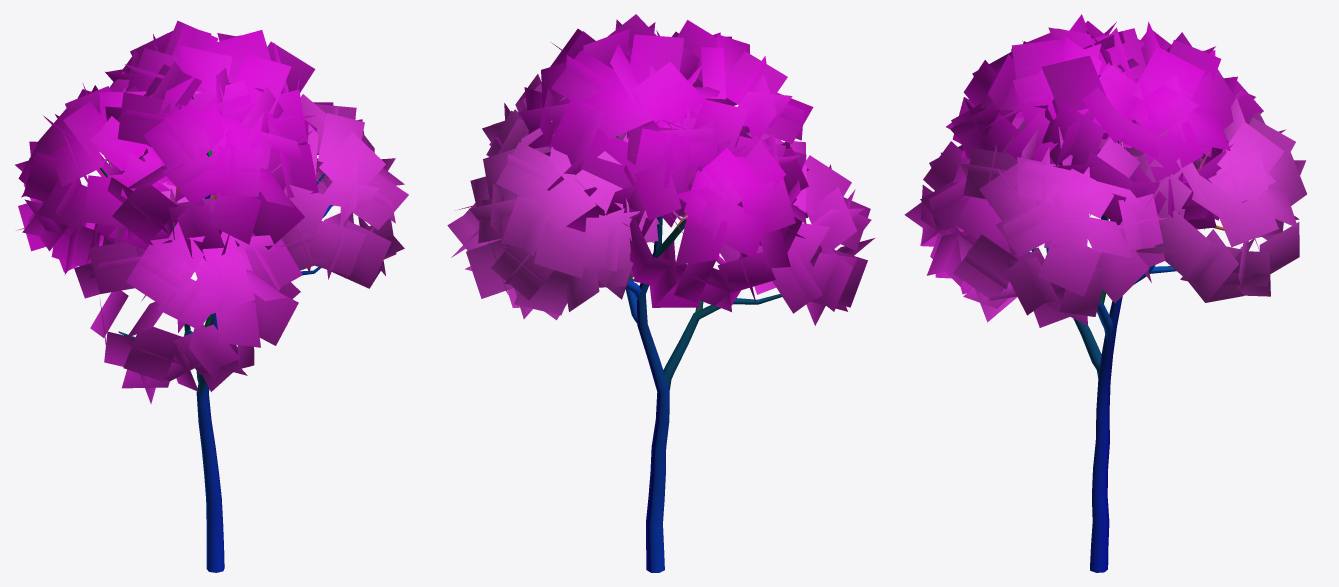
File: treeTwoLod0.glb
3 renders of one model, left to right at view 1: azimuth 30°, elevation 25°; view 2: azimuth 150°, elevation 25°; view 3: azimuth 270°, elevation 25°, orthographic. The views are drawn at different scales.
Visible parts, largest first — view 1: Mesh_0.018; view 2: Mesh_0.018; view 3: Mesh_0.018.
Part boxes in pixels (box(x1,y1,x2,y2)): Mesh_0.018: box(15, 20, 408, 572); Mesh_0.018: box(447, 14, 874, 572); Mesh_0.018: box(904, 14, 1306, 572).
Size of the model in its own units: 22.24 by 32.99 by 23.08.
